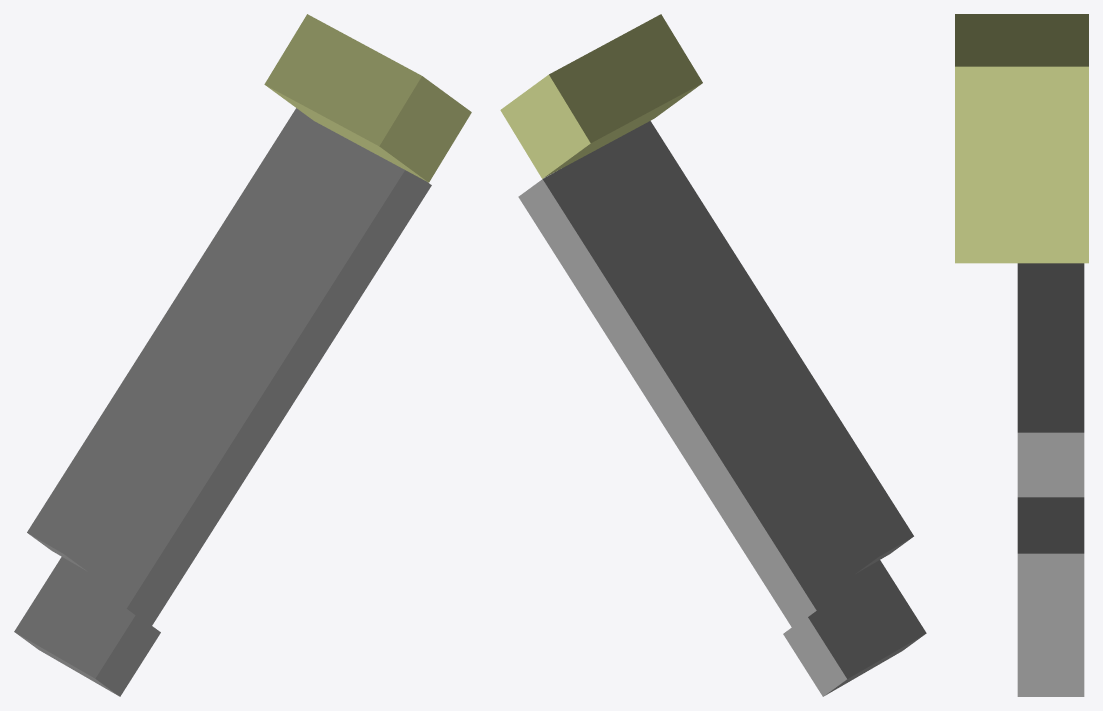
The picture shows the model from 3 angles, left to right: view 1: azimuth 30°, elevation 25°; view 2: azimuth 150°, elevation 25°; view 3: azimuth 270°, elevation 25°; orthographic projection. The views are drawn at different scales.
Parts seen in each view (by area): view 1: 0_1_0_0_0_2_0_2_0; view 2: 0_1_0_0_0_2_0_2_0; view 3: 0_1_0_0_0_2_0_2_0.
Part boxes in pixels (box(x1,y1,x2,y2)): 0_1_0_0_0_2_0_2_0: box(14, 14, 471, 696); 0_1_0_0_0_2_0_2_0: box(500, 14, 926, 696); 0_1_0_0_0_2_0_2_0: box(955, 14, 1088, 696).
Size of the model in its own units: 28.55 by 40.71 by 6.
